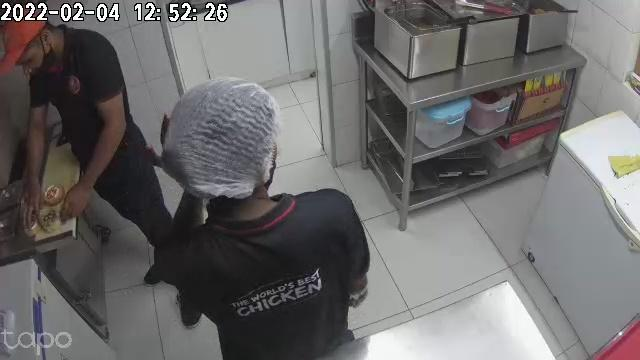no_gloves: (61, 180, 98, 220)
